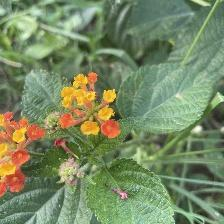common lanthana: (58, 70, 124, 141)
